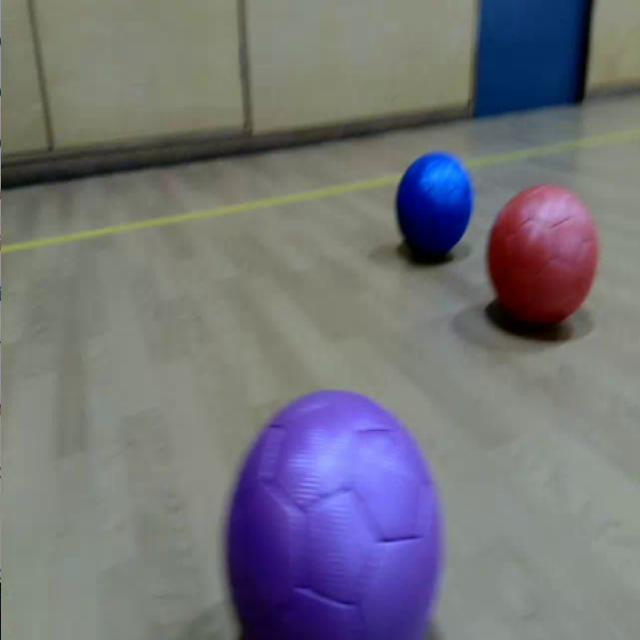blue_ball: (398, 150, 473, 257)
purple_ball: (226, 389, 447, 640)
red_ball: (489, 183, 599, 330)
